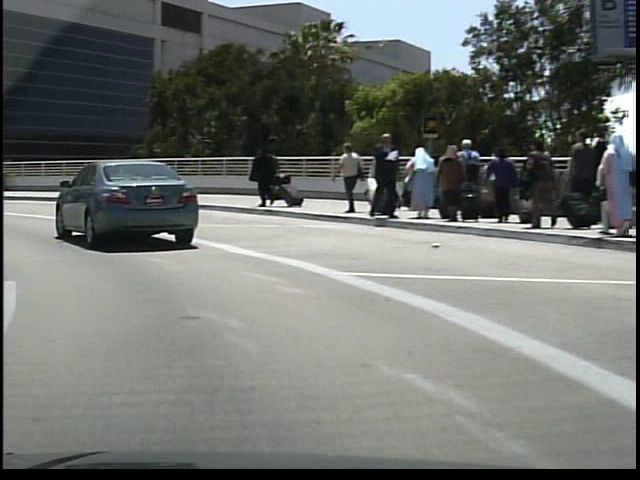person: (364, 130, 399, 223), (329, 139, 362, 218), (245, 144, 277, 209), (262, 152, 282, 203)
